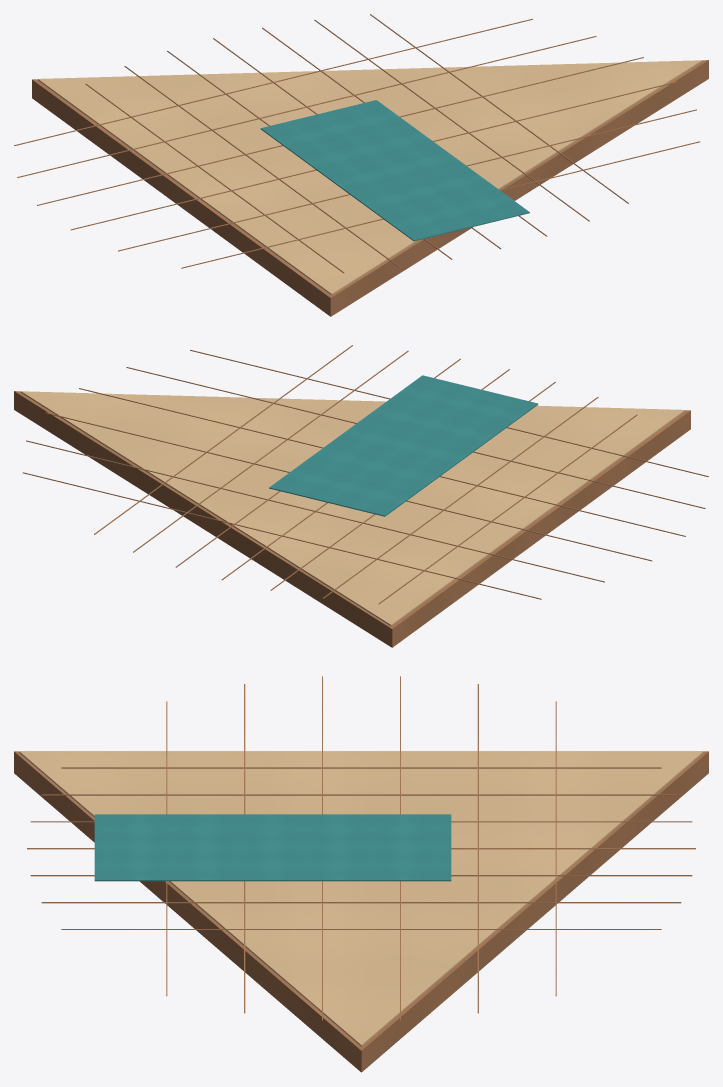
Rendered from atlas100-s094-a07.lod2.glb.
The picture shows the model from 3 angles, top to bottom: view 1: azimuth 30°, elevation 25°; view 2: azimuth 150°, elevation 25°; view 3: azimuth 270°, elevation 25°; orthographic projection. The views are drawn at different scales.
Visible parts, largest first — view 1: atlas100-s094-a07:part-001, atlas100-s094-a07:part-021, atlas100-s094-a07:part-000, atlas100-s094-a07:part-015, atlas100-s094-a07:part-014, atlas100-s094-a07:part-016, atlas100-s094-a07:part-017, atlas100-s094-a07:part-018, atlas100-s094-a07:part-019, atlas100-s094-a07:part-009, atlas100-s094-a07:part-005, atlas100-s094-a07:part-004 (+1 smaller); view 2: atlas100-s094-a07:part-001, atlas100-s094-a07:part-021, atlas100-s094-a07:part-000, atlas100-s094-a07:part-015, atlas100-s094-a07:part-014, atlas100-s094-a07:part-017, atlas100-s094-a07:part-016, atlas100-s094-a07:part-018, atlas100-s094-a07:part-019, atlas100-s094-a07:part-009, atlas100-s094-a07:part-005, atlas100-s094-a07:part-004 (+1 smaller); view 3: atlas100-s094-a07:part-001, atlas100-s094-a07:part-021, atlas100-s094-a07:part-000, atlas100-s094-a07:part-005, atlas100-s094-a07:part-009, atlas100-s094-a07:part-004, atlas100-s094-a07:part-015, atlas100-s094-a07:part-007.
Part boxes in pixels (<box>): atlas100-s094-a07:part-001: <box>38,60,701,295</box>; atlas100-s094-a07:part-021: <box>260,100,529,241</box>; atlas100-s094-a07:part-000: <box>32,60,708,316</box>; atlas100-s094-a07:part-015: <box>17,36,596,177</box>; atlas100-s094-a07:part-014: <box>14,18,532,145</box>; atlas100-s094-a07:part-016: <box>37,57,643,205</box>; atlas100-s094-a07:part-017: <box>70,81,677,230</box>; atlas100-s094-a07:part-018: <box>118,109,696,251</box>; atlas100-s094-a07:part-019: <box>181,141,700,268</box>; atlas100-s094-a07:part-009: <box>314,19,589,221</box>; atlas100-s094-a07:part-005: <box>124,66,400,267</box>; atlas100-s094-a07:part-004: <box>85,83,344,273</box>; atlas100-s094-a07:part-001: <box>21,391,684,626</box>; atlas100-s094-a07:part-021: <box>269,375,538,516</box>; atlas100-s094-a07:part-000: <box>14,391,690,647</box>; atlas100-s094-a07:part-015: <box>26,440,604,582</box>; atlas100-s094-a07:part-014: <box>22,472,541,599</box>; atlas100-s094-a07:part-017: <box>79,388,685,536</box>; atlas100-s094-a07:part-016: <box>45,412,652,561</box>; atlas100-s094-a07:part-018: <box>126,367,705,508</box>; atlas100-s094-a07:part-019: <box>190,349,708,476</box>; atlas100-s094-a07:part-009: <box>133,350,408,552</box>; atlas100-s094-a07:part-005: <box>322,397,598,598</box>; atlas100-s094-a07:part-004: <box>378,414,637,604</box>; atlas100-s094-a07:part-001: <box>19,751,703,1046</box>; atlas100-s094-a07:part-021: <box>94,814,451,881</box>; atlas100-s094-a07:part-000: <box>14,751,708,1072</box>; atlas100-s094-a07:part-005: <box>41,794,681,795</box>; atlas100-s094-a07:part-009: <box>41,902,681,903</box>; atlas100-s094-a07:part-004: <box>61,767,661,768</box>; atlas100-s094-a07:part-015: <box>477,684,478,1013</box>; atlas100-s094-a07:part-007: <box>27,848,695,849</box>.
Bounding box in the file's own units: 12.43 × 0.404 × 9.82.
Materials: 3 (3 with a texture image).
